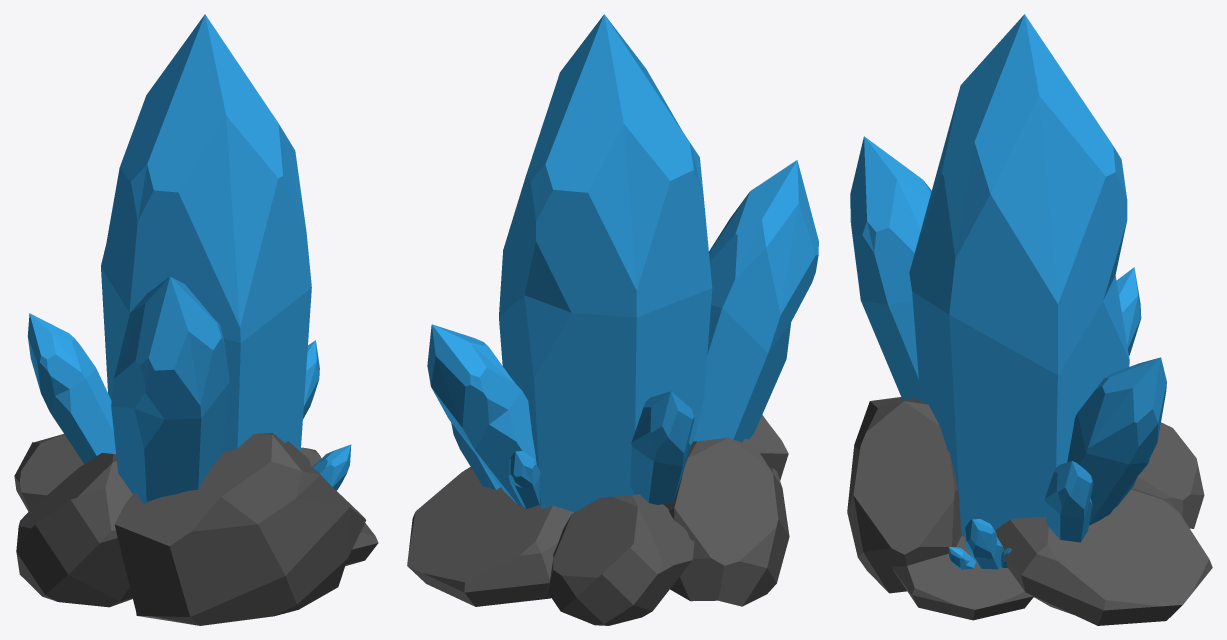
Rendered from CrystalBig.fbx.
3 renders of one model, left to right at view 1: azimuth 30°, elevation 25°; view 2: azimuth 150°, elevation 25°; view 3: azimuth 270°, elevation 25°, orthographic.
Visible parts, largest first — view 1: CrystalBig; view 2: CrystalBig; view 3: CrystalBig.
Boxes of the visible parts, box(x1,y1,x2,y2) form: CrystalBig: box(14, 14, 378, 625); CrystalBig: box(407, 14, 818, 625); CrystalBig: box(847, 14, 1212, 625).
Size of the model in its own units: 184 by 297 by 175.
